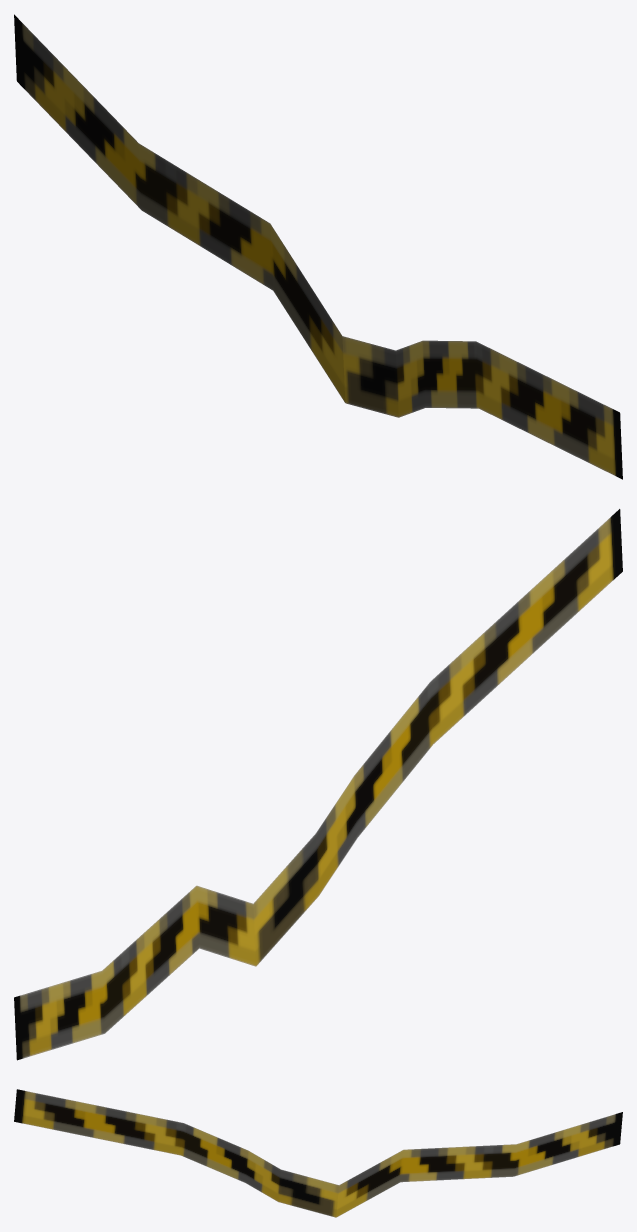
The model's file is CautionTaped.glb.
The picture shows the model from 3 angles, top to bottom: view 1: azimuth 30°, elevation 25°; view 2: azimuth 150°, elevation 25°; view 3: azimuth 270°, elevation 25°; orthographic projection. The views are drawn at different scales.
Parts seen in each view (by area): view 1: Plane; view 2: Plane; view 3: Plane.
Boxes of the visible parts, box(x1,y1,x2,y2) form: Plane: box(14, 14, 622, 479); Plane: box(14, 509, 622, 1060); Plane: box(14, 1089, 622, 1217).
Bounding box in the file's own units: 0.447 × 2.26 × 10.58.
Materials: 1 (1 with a texture image).
